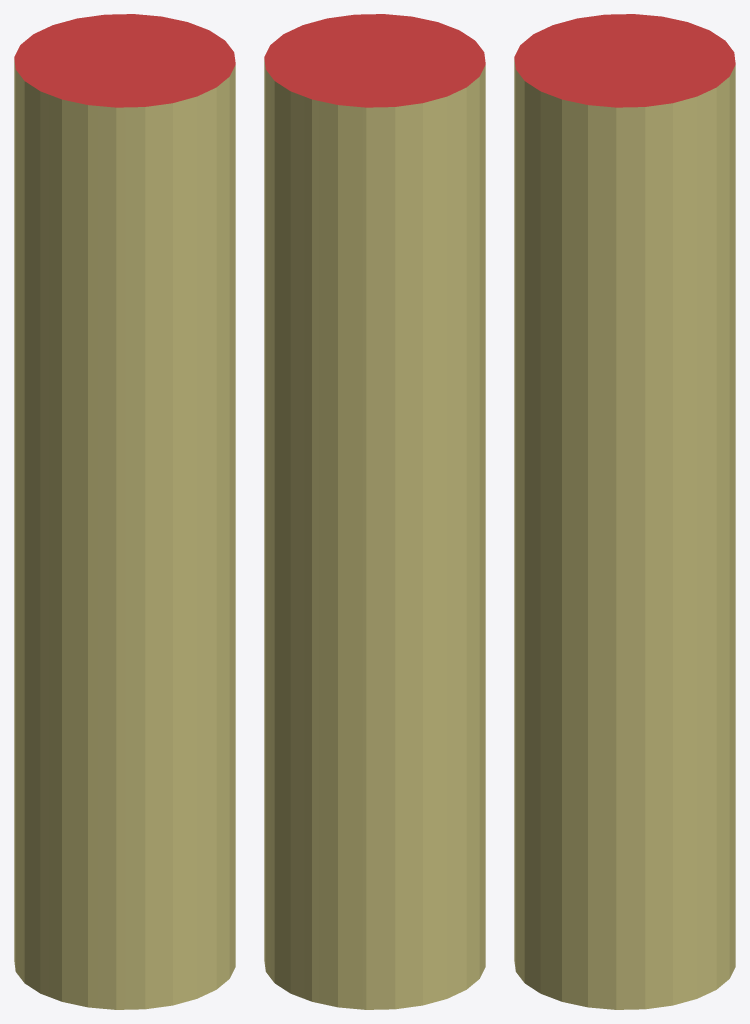
3 views of the same model, side by side, from view 1: azimuth 30°, elevation 25°; view 2: azimuth 150°, elevation 25°; view 3: azimuth 270°, elevation 25° (orthographic).
Size of the model in its own units: 1.8 by 1.8 by 8.08.
